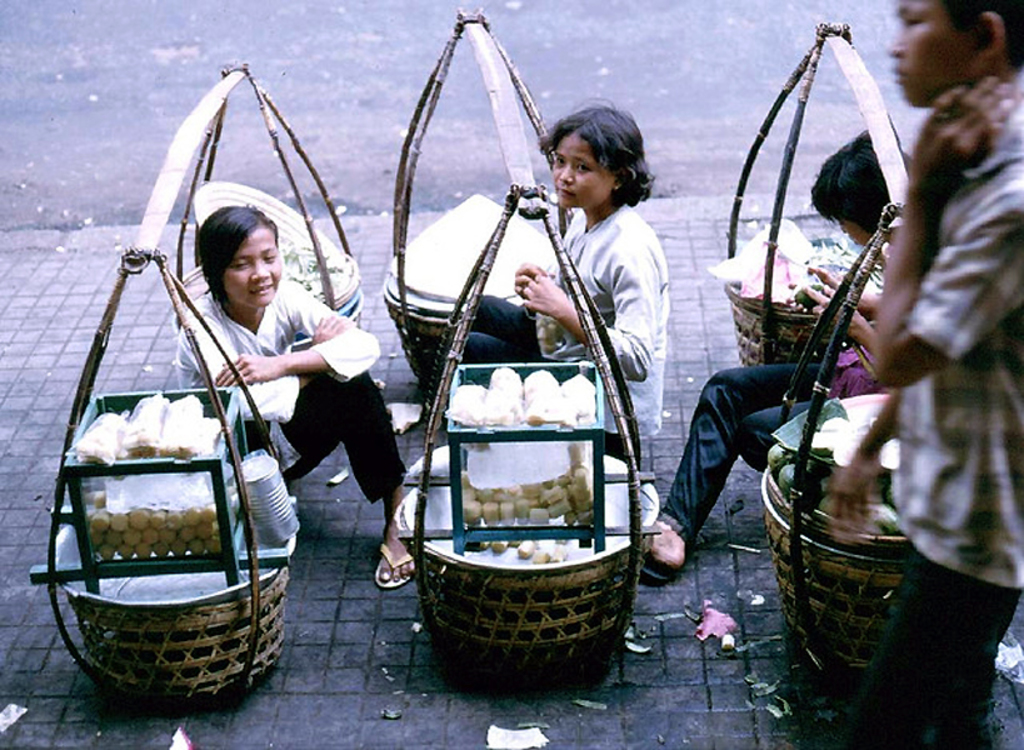Person: (829, 0, 1024, 750), (640, 131, 916, 585), (173, 204, 414, 588), (460, 97, 661, 440)
